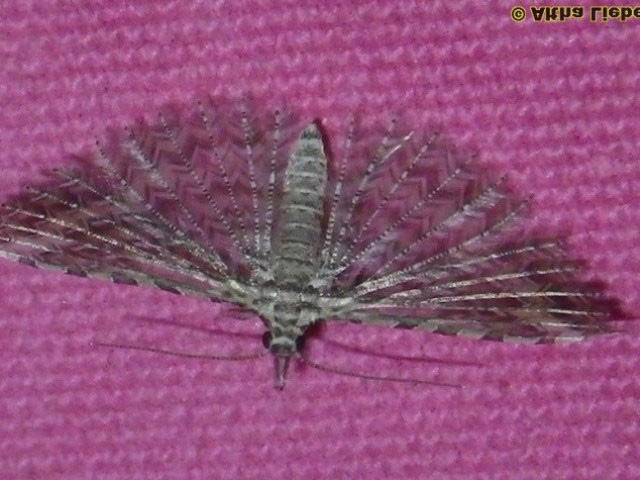Alucitidae: (2, 80, 631, 396)
moth: (1, 78, 629, 394)
